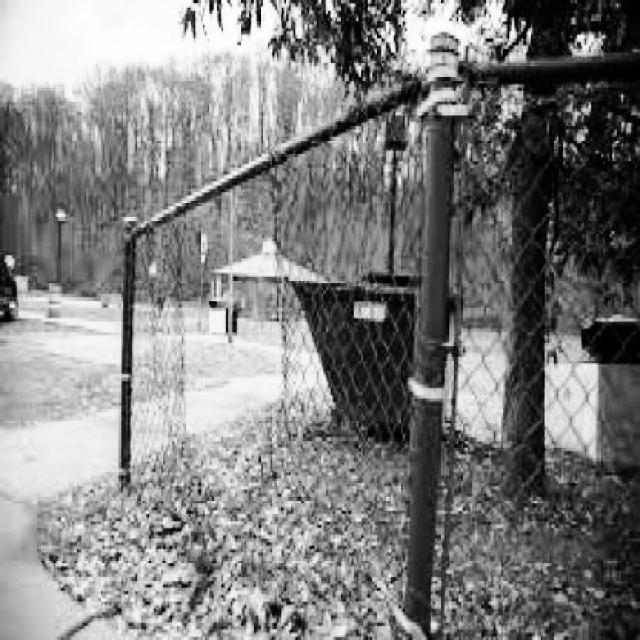anomaly-fence: (164, 167, 328, 546)
